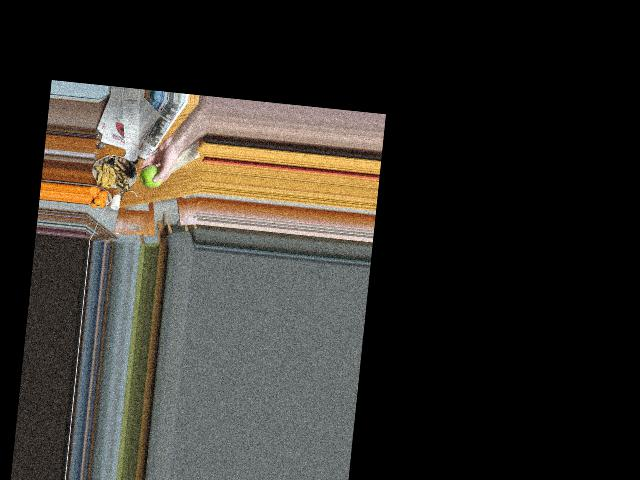apple: (139, 159, 166, 190)
